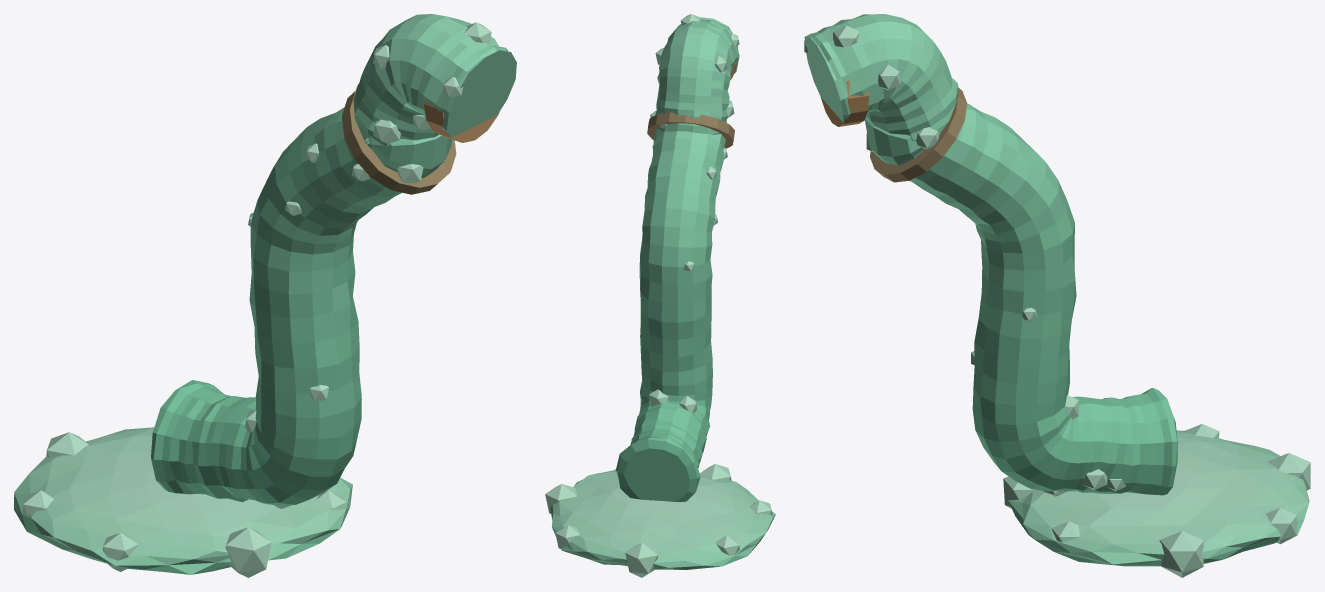
Rendered from goo_drop_tube_goo_2.fbx.
The picture shows the model from 3 angles, left to right: view 1: azimuth 30°, elevation 25°; view 2: azimuth 150°, elevation 25°; view 3: azimuth 270°, elevation 25°; orthographic projection. The views are drawn at different scales.
Visible parts, largest first — view 1: goo_drop_tube_goo_2; view 2: goo_drop_tube_goo_2; view 3: goo_drop_tube_goo_2.
Part boxes in pixels (box(x1,y1,x2,y2)): goo_drop_tube_goo_2: box(14, 14, 516, 577); goo_drop_tube_goo_2: box(545, 14, 775, 577); goo_drop_tube_goo_2: box(804, 14, 1310, 577).
Size of the model in its own units: 11.56 by 21.93 by 18.18.
